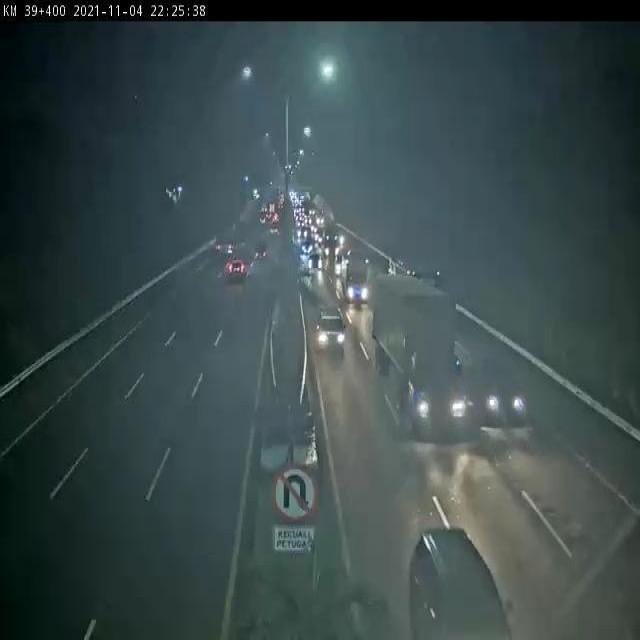car: (471, 344, 530, 431), (315, 309, 349, 355), (225, 258, 247, 282), (306, 251, 326, 273), (252, 238, 269, 262), (297, 237, 315, 256)
truck-m-: (339, 246, 372, 306), (321, 224, 342, 264)
truck-s-: (214, 227, 235, 256)
truck-xl-: (367, 276, 469, 441)
